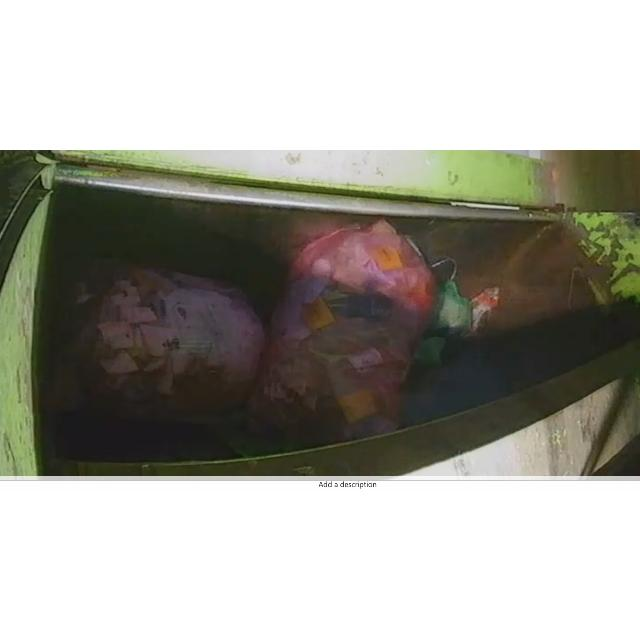other_trashbag: (252, 219, 435, 445), (90, 268, 264, 410)
